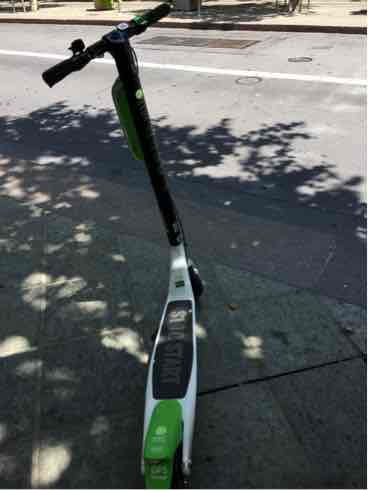scooter: (37, 2, 218, 490)
